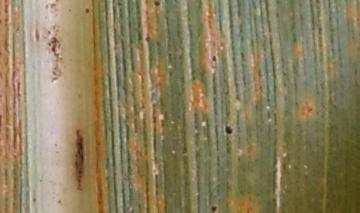tarspot: (74, 128, 85, 190), (224, 124, 233, 134), (82, 7, 91, 15), (210, 204, 218, 213), (153, 1, 162, 8), (146, 36, 152, 44), (212, 54, 217, 63)
